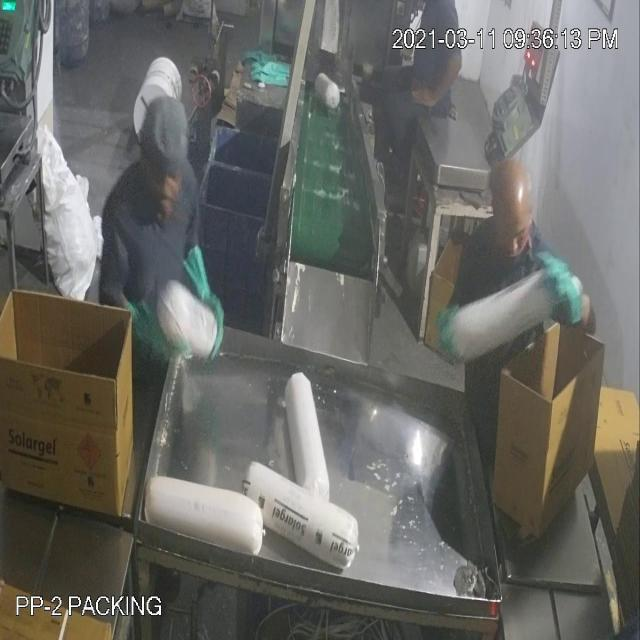No_Gloves: (406, 52, 468, 115)
